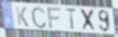9: (97, 9, 111, 34)
C: (30, 6, 48, 30)
F: (46, 7, 63, 30)
K: (16, 5, 30, 28)
T: (63, 8, 78, 31)
X: (80, 8, 98, 33)
